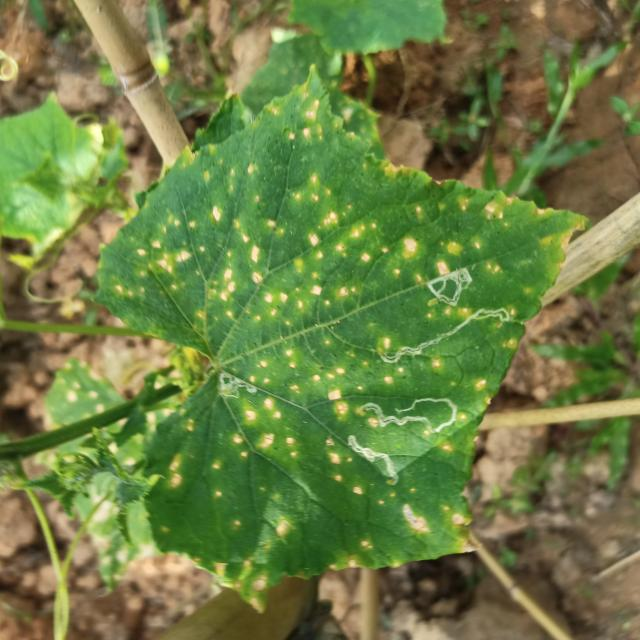disease_cucumber: (112, 98, 533, 323), (183, 399, 304, 509), (251, 346, 354, 421), (213, 515, 293, 609), (381, 488, 475, 542), (322, 528, 378, 575), (322, 439, 366, 498), (375, 359, 445, 387), (162, 452, 187, 494)
